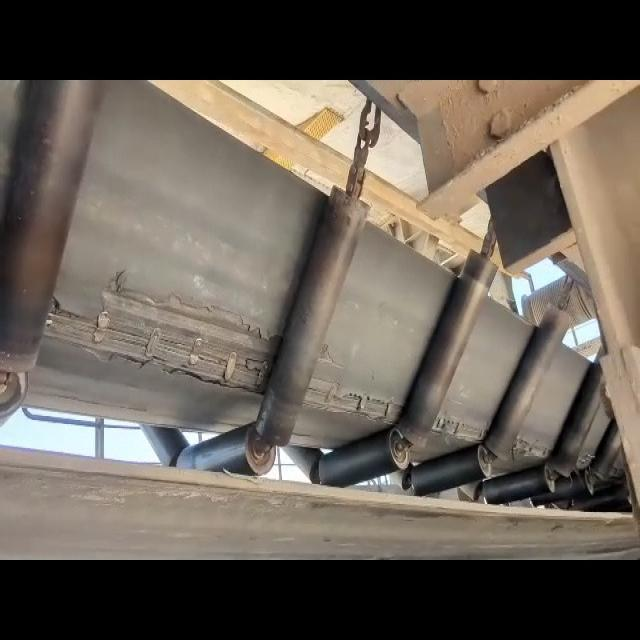Tear: (46, 272, 288, 403), (300, 376, 407, 428), (430, 405, 488, 448)
Wear: (312, 338, 349, 370)
